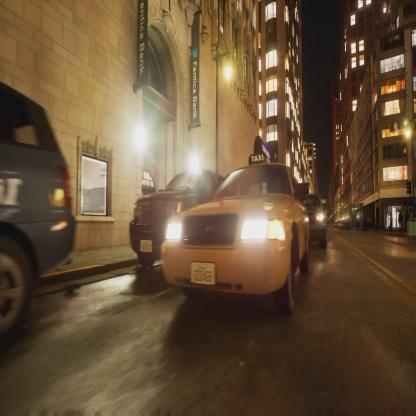License-Plate: (188, 260, 218, 288), (139, 234, 156, 260)
